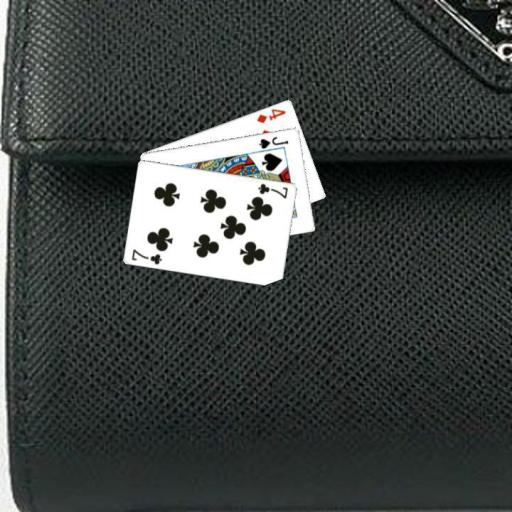4D: (254, 106, 287, 125)
7C: (129, 246, 164, 266), (256, 180, 290, 200)
JS: (256, 133, 289, 150)
